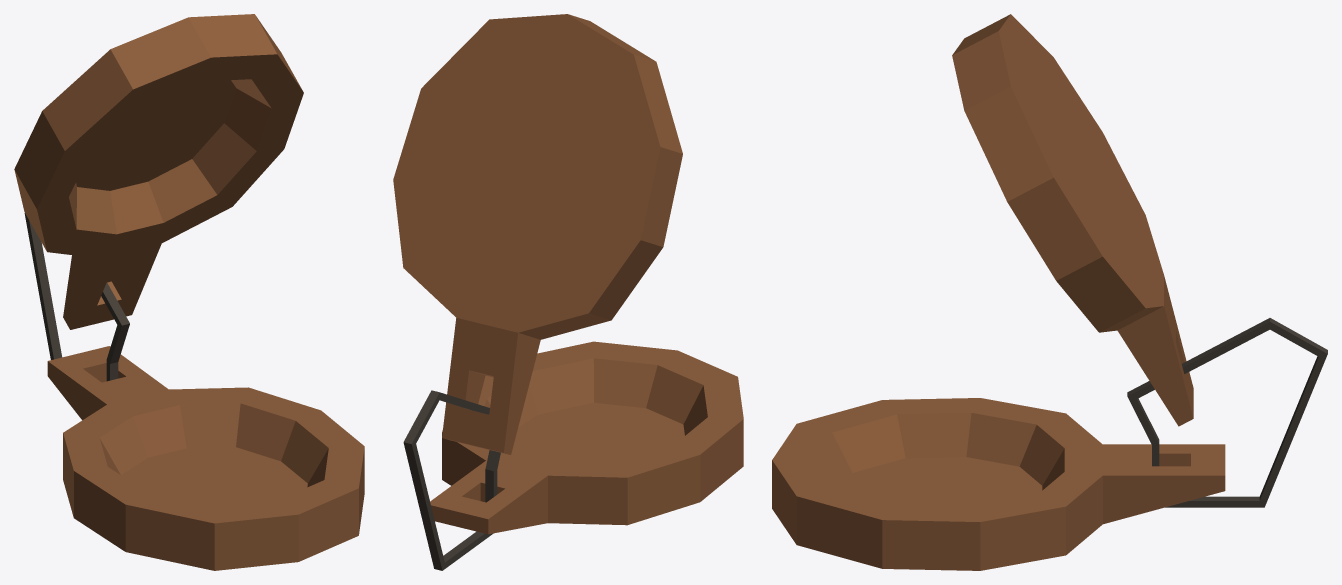
3 views of the same model, side by side, from view 1: azimuth 30°, elevation 25°; view 2: azimuth 150°, elevation 25°; view 3: azimuth 270°, elevation 25° (orthographic). The views are drawn at different scales.
Parts seen in each view (by area): view 1: WholeOpposedRaisedPearCastanetShell, WholeLowerPearCastanetShell, ContinuousThreadedNeckCord; view 2: WholeOpposedRaisedPearCastanetShell, WholeLowerPearCastanetShell, ContinuousThreadedNeckCord; view 3: WholeLowerPearCastanetShell, WholeOpposedRaisedPearCastanetShell, ContinuousThreadedNeckCord.
Part boxes in pixels (box(x1,y1,x2,y2)): WholeOpposedRaisedPearCastanetShell: box(14, 14, 303, 329); WholeLowerPearCastanetShell: box(47, 346, 364, 570); ContinuousThreadedNeckCord: box(24, 213, 129, 381); WholeOpposedRaisedPearCastanetShell: box(393, 14, 682, 454); WholeLowerPearCastanetShell: box(430, 341, 743, 534); ContinuousThreadedNeckCord: box(403, 390, 500, 570); WholeLowerPearCastanetShell: box(772, 398, 1225, 570); WholeOpposedRaisedPearCastanetShell: box(952, 14, 1193, 426); ContinuousThreadedNeckCord: box(1127, 318, 1327, 507).
Bounding box in the file's own units: 0.12 × 0.2152 × 0.2268.
